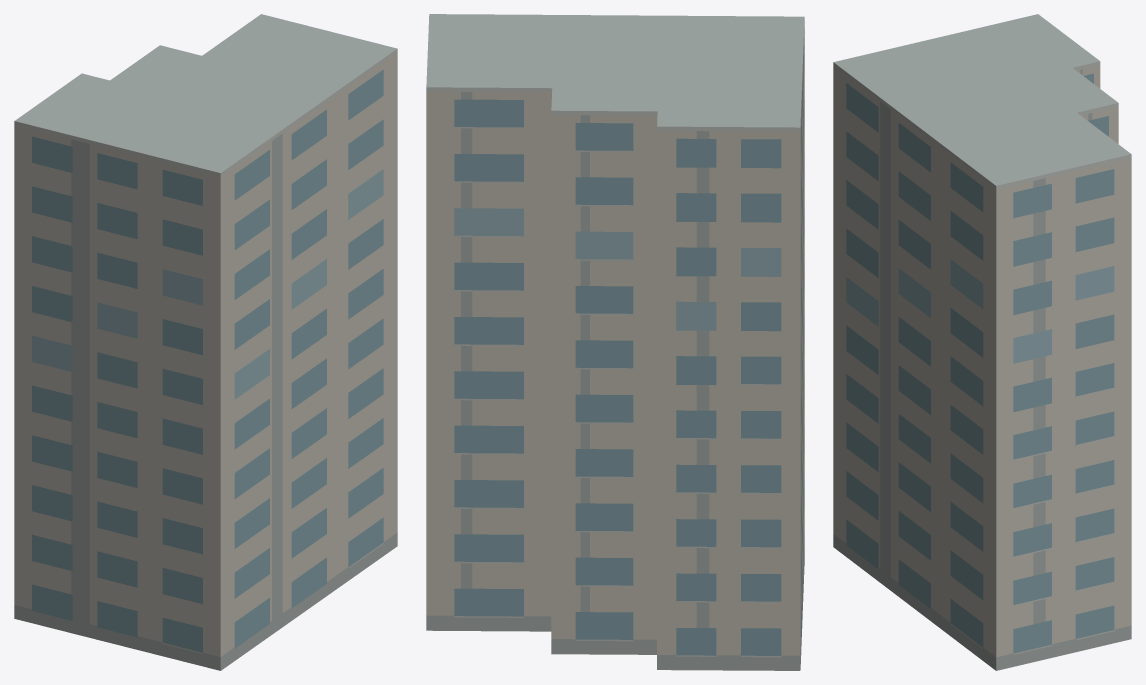
Rendered from residential-ce1c5562-08e3-4db1-a842-b069ffdfe73f.glb.
3 renders of one model, left to right at view 1: azimuth 30°, elevation 25°; view 2: azimuth 150°, elevation 25°; view 3: azimuth 270°, elevation 25°, orthographic. The views are drawn at different scales.
Parts seen in each view (by area): view 1: residential-ce1c5562-08e3-4db1-a842-b069ffdfe73f.tmp; view 2: residential-ce1c5562-08e3-4db1-a842-b069ffdfe73f.tmp; view 3: residential-ce1c5562-08e3-4db1-a842-b069ffdfe73f.tmp.
Part boxes in pixels (box(x1,y1,x2,y2)): residential-ce1c5562-08e3-4db1-a842-b069ffdfe73f.tmp: box(14, 14, 397, 670); residential-ce1c5562-08e3-4db1-a842-b069ffdfe73f.tmp: box(426, 14, 804, 670); residential-ce1c5562-08e3-4db1-a842-b069ffdfe73f.tmp: box(833, 14, 1131, 670).
Bounding box in the file's own units: 23.57 × 31 × 17.28.
